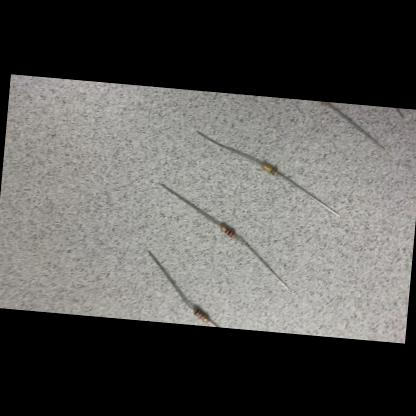resistor: (221, 225, 238, 237), (262, 162, 279, 174), (194, 308, 210, 320)
wire: (318, 100, 390, 150), (232, 234, 293, 290), (142, 249, 198, 309), (275, 172, 344, 216), (158, 183, 224, 226), (194, 130, 264, 165), (209, 320, 218, 326)
